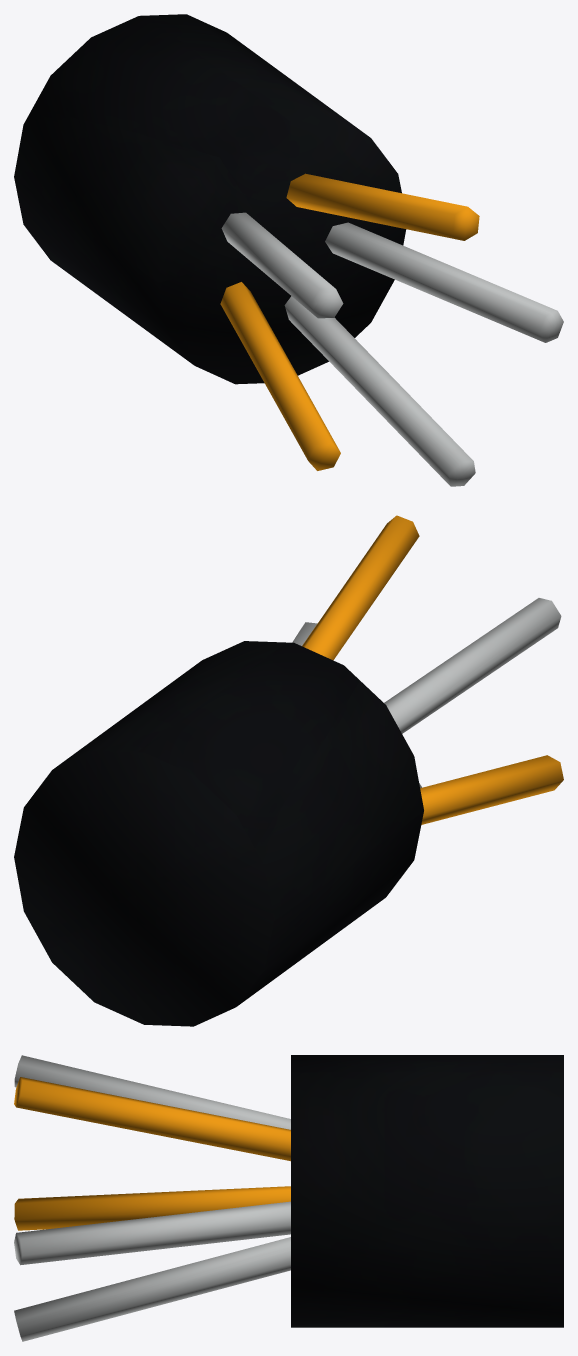
File: PEN_HOLDER_001.glb
The picture shows the model from 3 angles, top to bottom: view 1: azimuth 30°, elevation 25°; view 2: azimuth 150°, elevation 25°; view 3: azimuth 270°, elevation 25°; orthographic projection. The views are drawn at different scales.
Parts seen in each view (by area): view 1: cup_000, pen_001, pen_005, pen_004, pen_002, pen_003; view 2: cup_000, pen_003, pen_002, pen_004; view 3: cup_000, pen_005, pen_001, pen_002, pen_004, pen_003.
Boxes of the visible parts, x1,y1,x2,y2 form: cup_000: (14, 14, 406, 384); pen_001: (325, 222, 563, 342); pen_005: (284, 296, 475, 486); pen_004: (220, 282, 340, 470); pen_002: (286, 173, 479, 240); pen_003: (221, 212, 343, 318); cup_000: (14, 641, 423, 1026); pen_003: (384, 598, 561, 733); pen_002: (302, 515, 419, 660); pen_004: (420, 755, 563, 824); cup_000: (291, 1055, 563, 1327); pen_005: (14, 1237, 290, 1341); pen_001: (14, 1201, 290, 1265); pen_002: (14, 1077, 290, 1161); pen_004: (14, 1186, 290, 1230); pen_003: (14, 1055, 290, 1129).
Bounding box in the file's own units: 0.1058 × 0.1065 × 0.2016.
3 materials, 3 textured.
